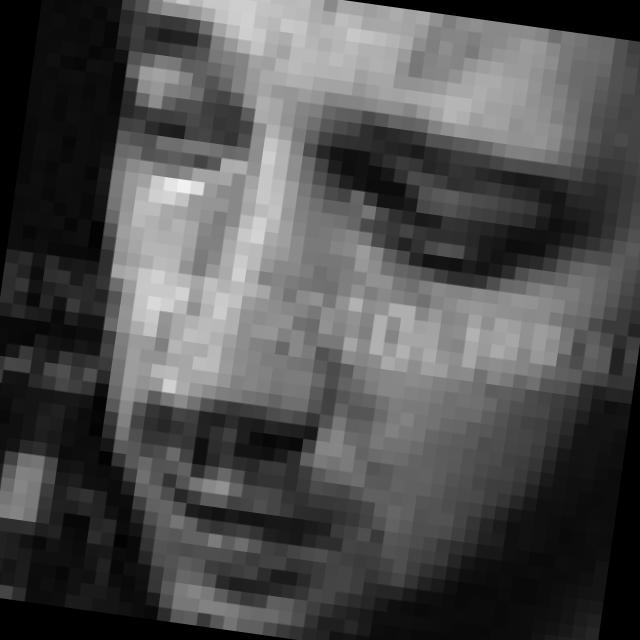sad: (59, 7, 611, 640)
